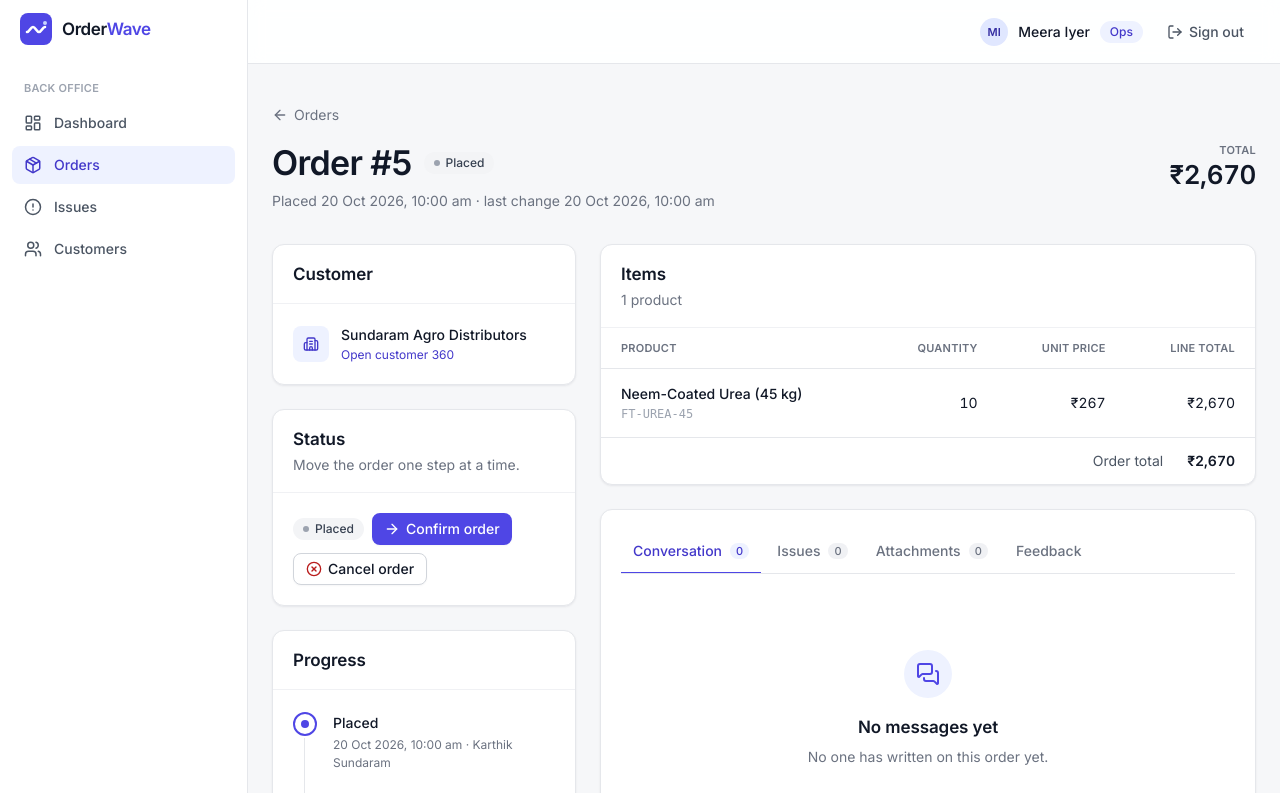
it: ops order status › shows the API's message when a change is refused
Click the button "Confirm order".
click(442, 529)  # box [372,513,512,545]
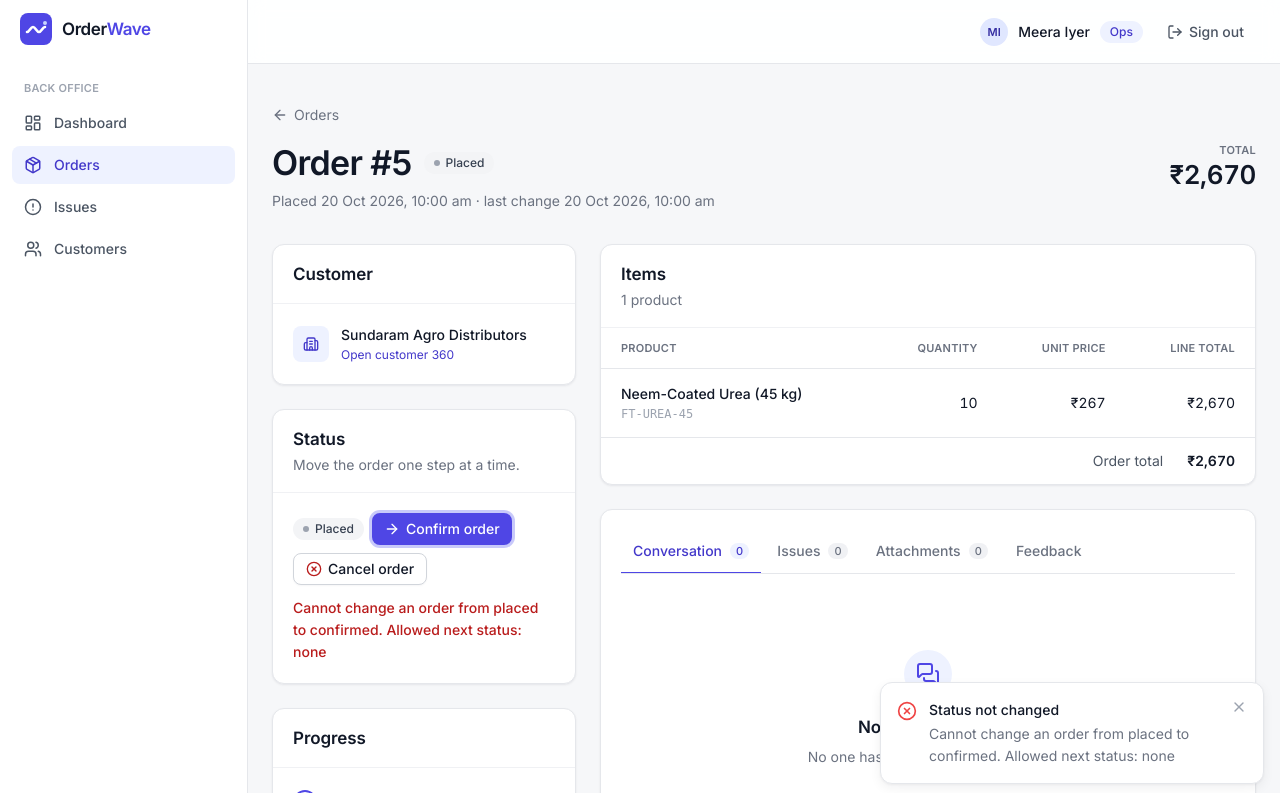
Check: the text "Cannot change an order from placed to confirmed. Allowed next status: none" is shown, box [293,597,555,663]
